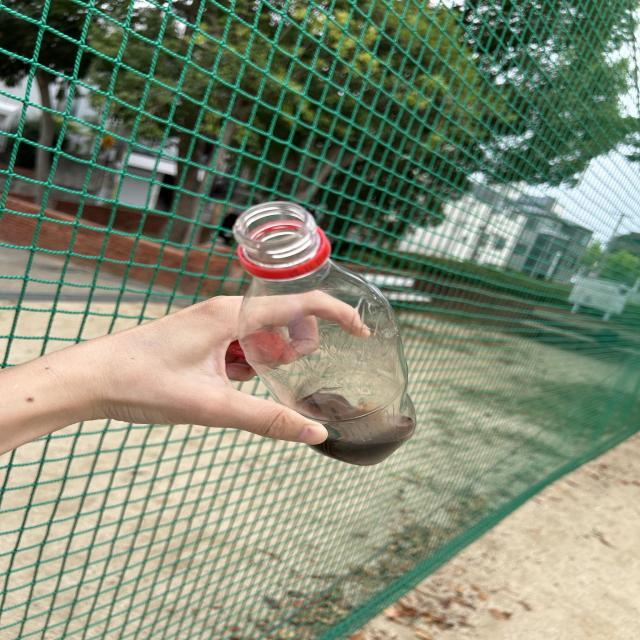low: (230, 201, 415, 465)
